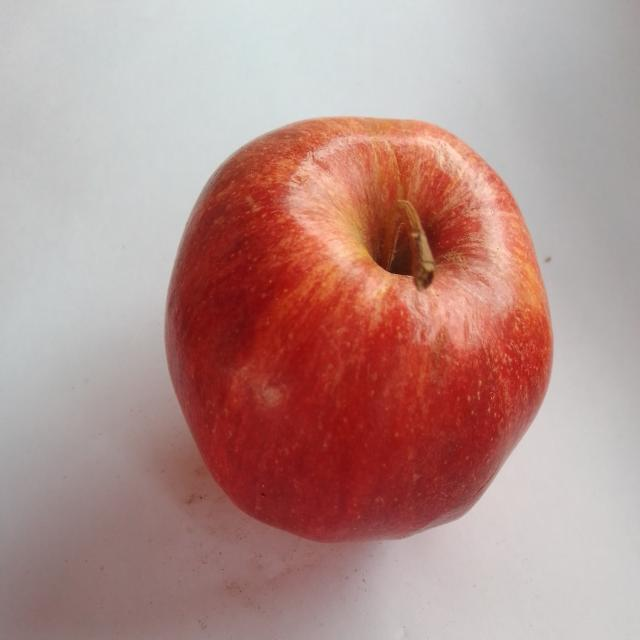Fresh Apple: (162, 123, 542, 540)
